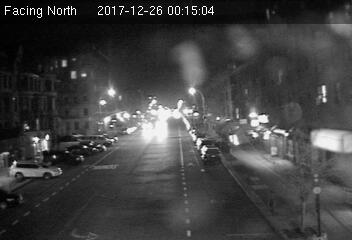car: (200, 147, 223, 164)
